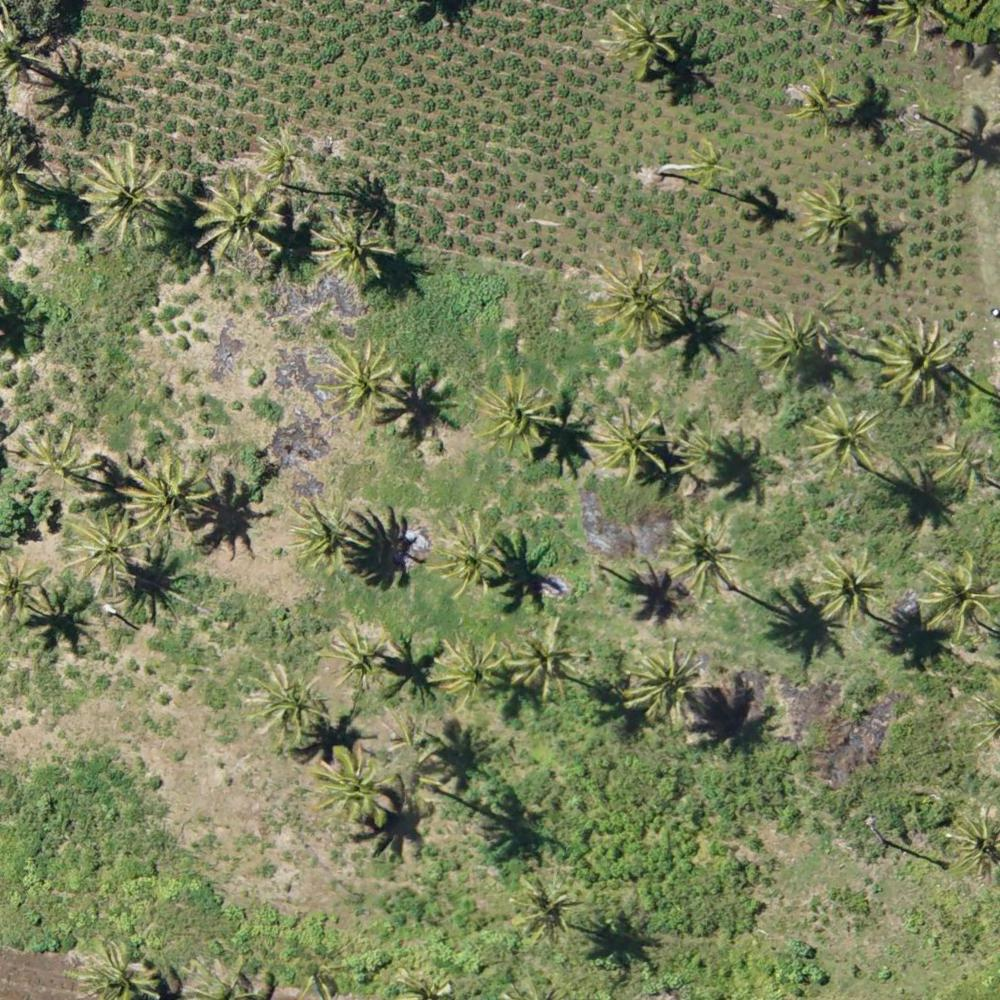not plam: (749, 832, 822, 903), (39, 825, 110, 898), (830, 828, 905, 896), (16, 710, 87, 780), (139, 833, 207, 906), (407, 863, 477, 933), (831, 919, 903, 986), (204, 574, 274, 642), (165, 346, 238, 410), (584, 759, 652, 827), (468, 273, 535, 341), (119, 735, 188, 800), (841, 725, 907, 792), (702, 761, 768, 827), (288, 895, 355, 960), (661, 841, 728, 904), (55, 306, 121, 369), (459, 151, 526, 213), (928, 938, 996, 999), (234, 781, 298, 844), (142, 15, 203, 74), (341, 73, 402, 129)
